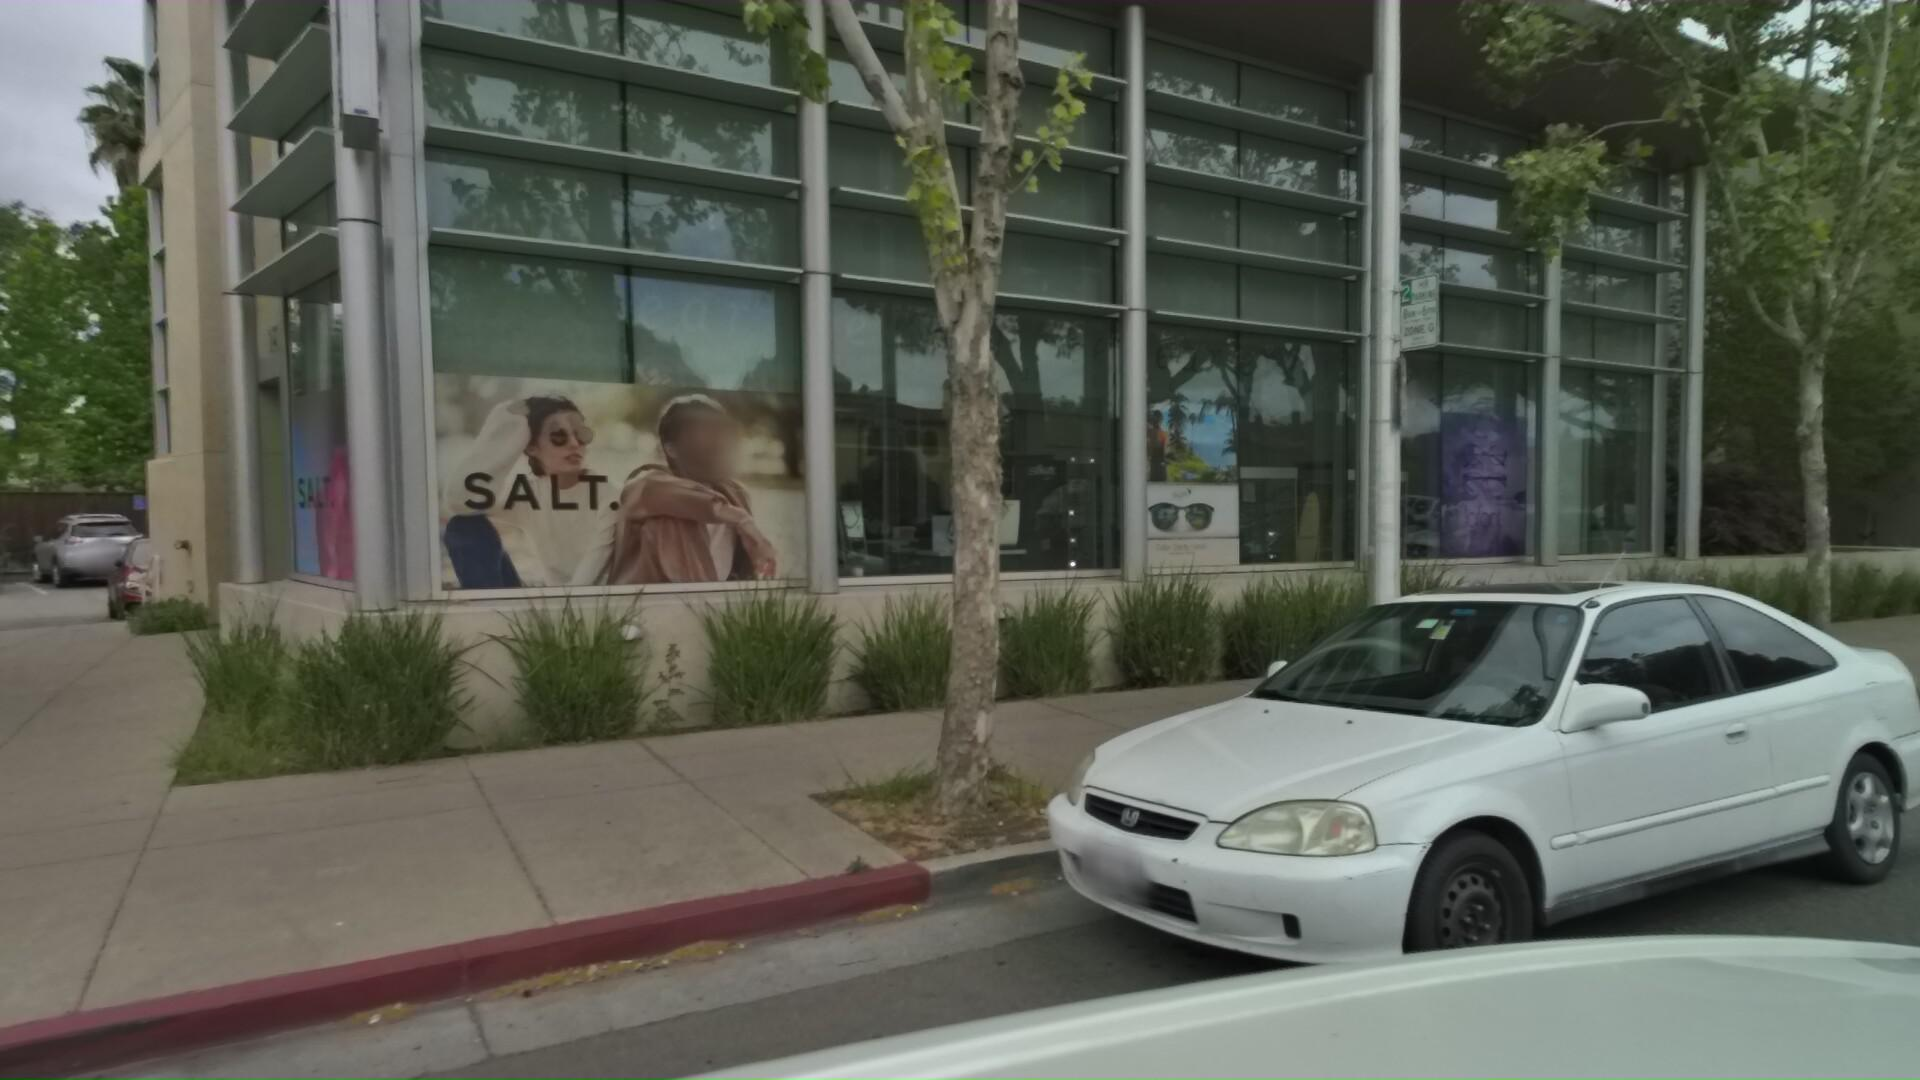car: (1054, 547, 1920, 1080), (131, 518, 303, 637), (50, 505, 185, 591)
